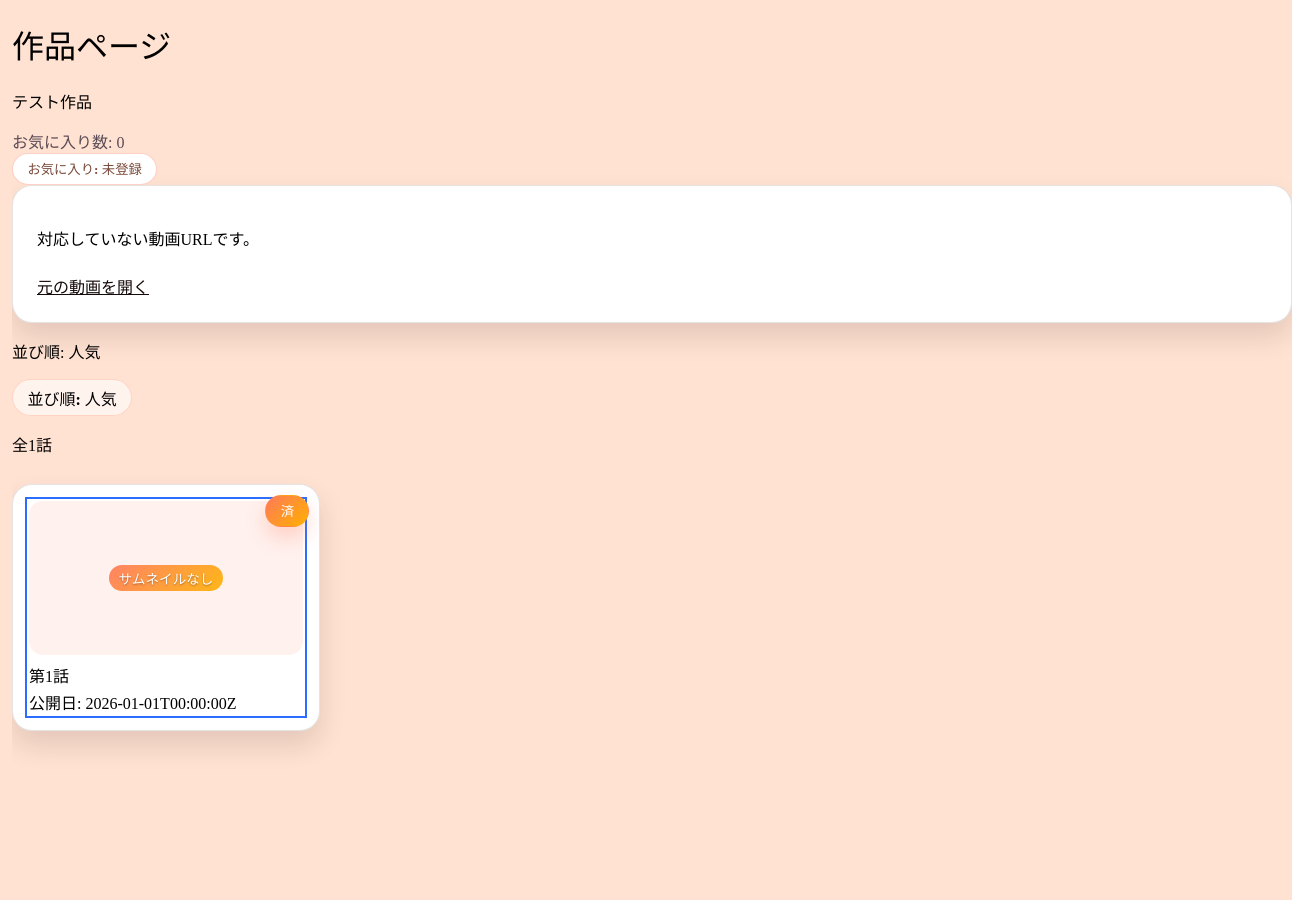
Test: WorkPage state › 推し解除で一覧上の表示が推に戻る
Click the button "済" at x=287, y=511, box [265,495,309,527]
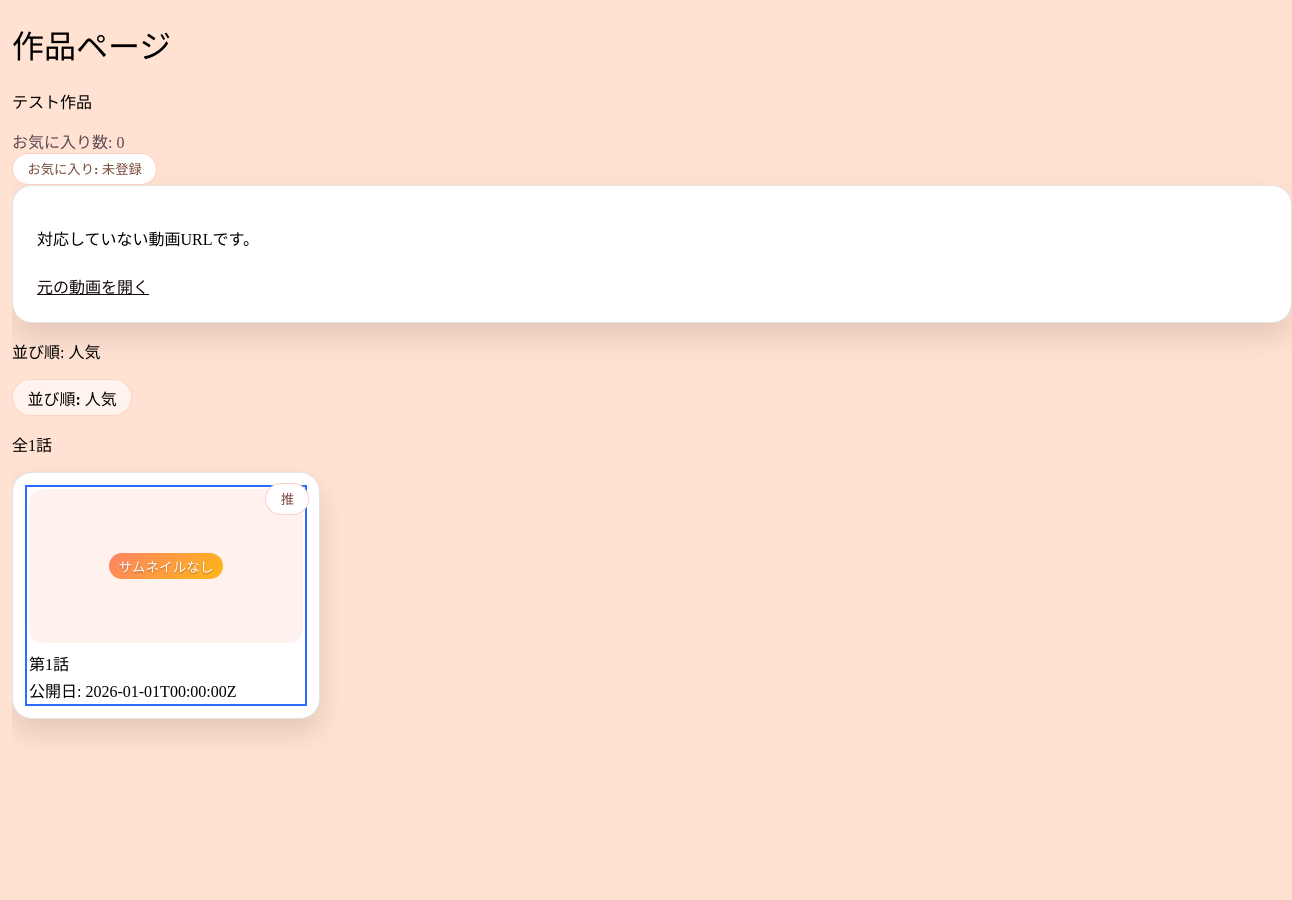
Expected: the button "推" is shown, [265,483,309,515]
